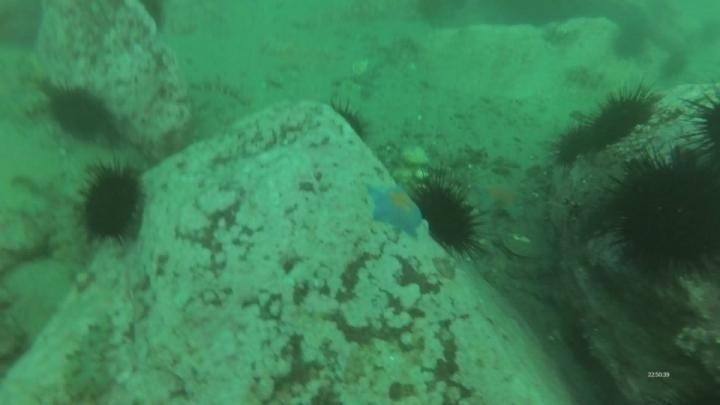echinus: (605, 149, 719, 281), (76, 163, 147, 246), (412, 180, 482, 254), (585, 87, 659, 150), (45, 84, 114, 143), (683, 91, 720, 167), (328, 100, 374, 148), (550, 124, 596, 167), (609, 23, 650, 61), (137, 1, 169, 36), (659, 49, 690, 81)
holothurian: (61, 318, 116, 404), (187, 72, 253, 106), (562, 63, 617, 92)
starfish: (363, 179, 426, 239), (471, 177, 529, 220)
